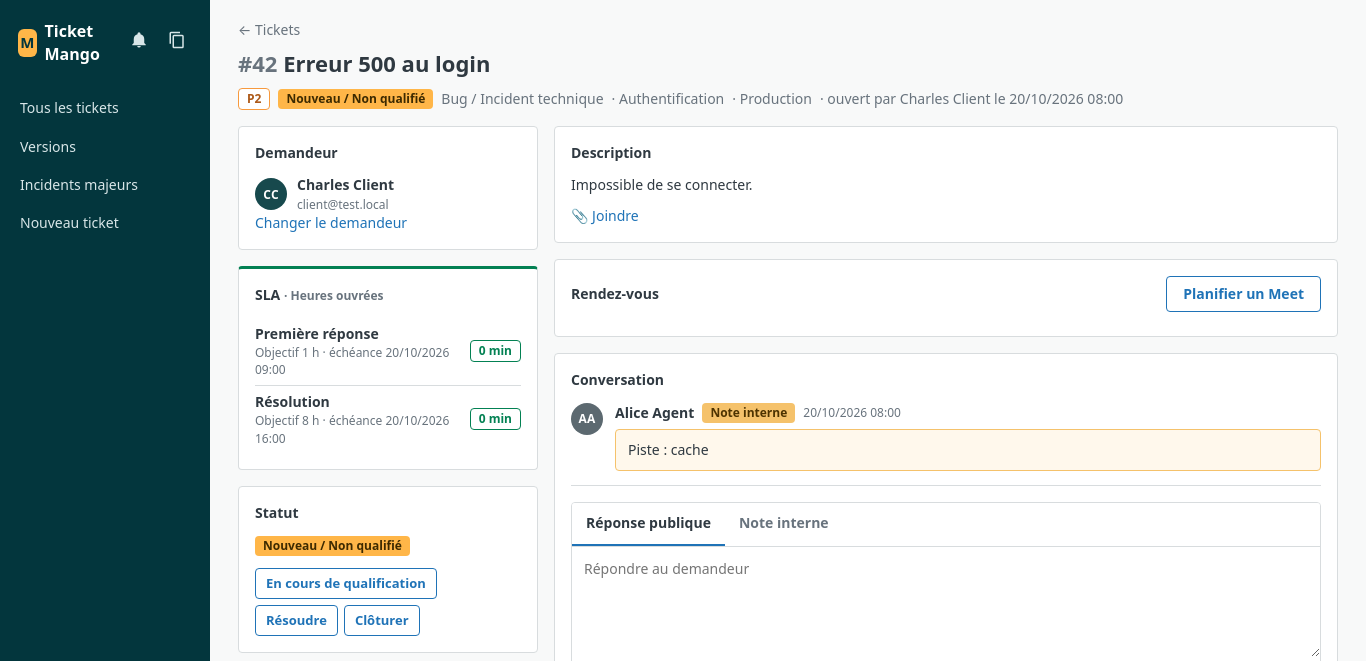
Test: détail d’un ticket › permet au support de changer le demandeur, y compris vers un nouveau contact
This screenshot has width=1366, height=661.
Click the button "Changer le demandeur" at (331, 223), box [255,213,407,234]
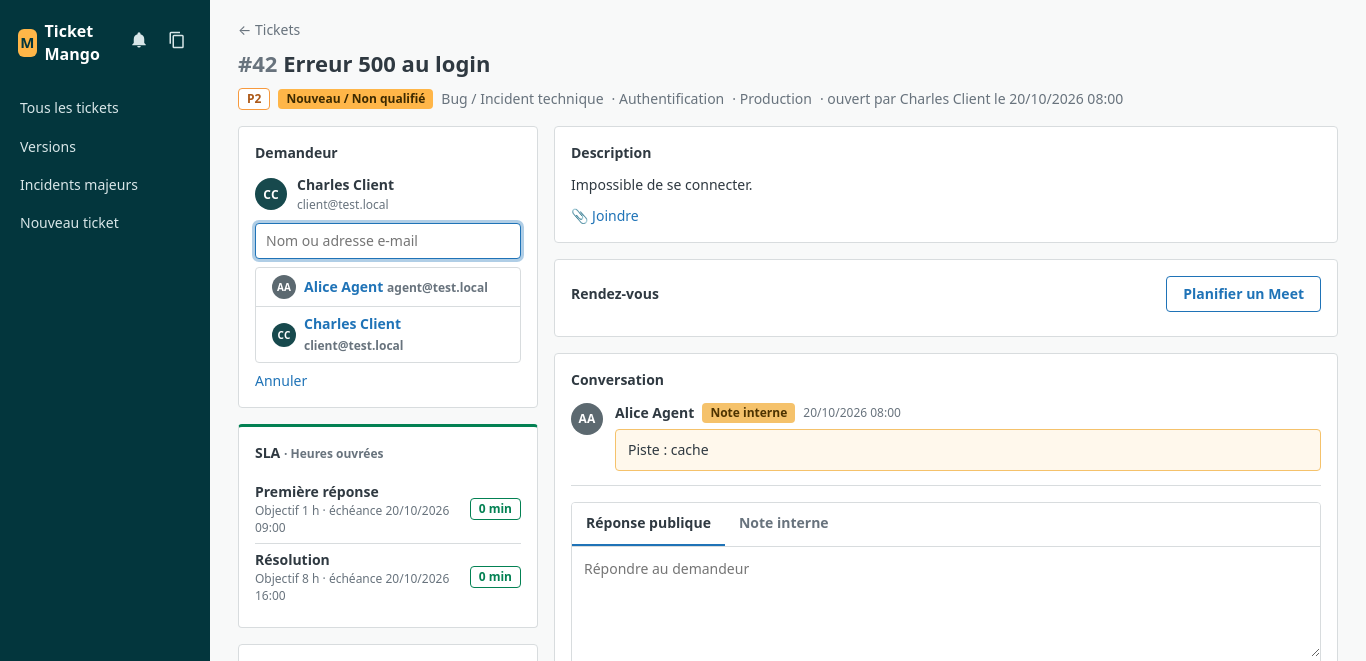
Type "paul@client.local" into the field named "Rechercher un demandeur" at (388, 241), box [255,223,521,260]
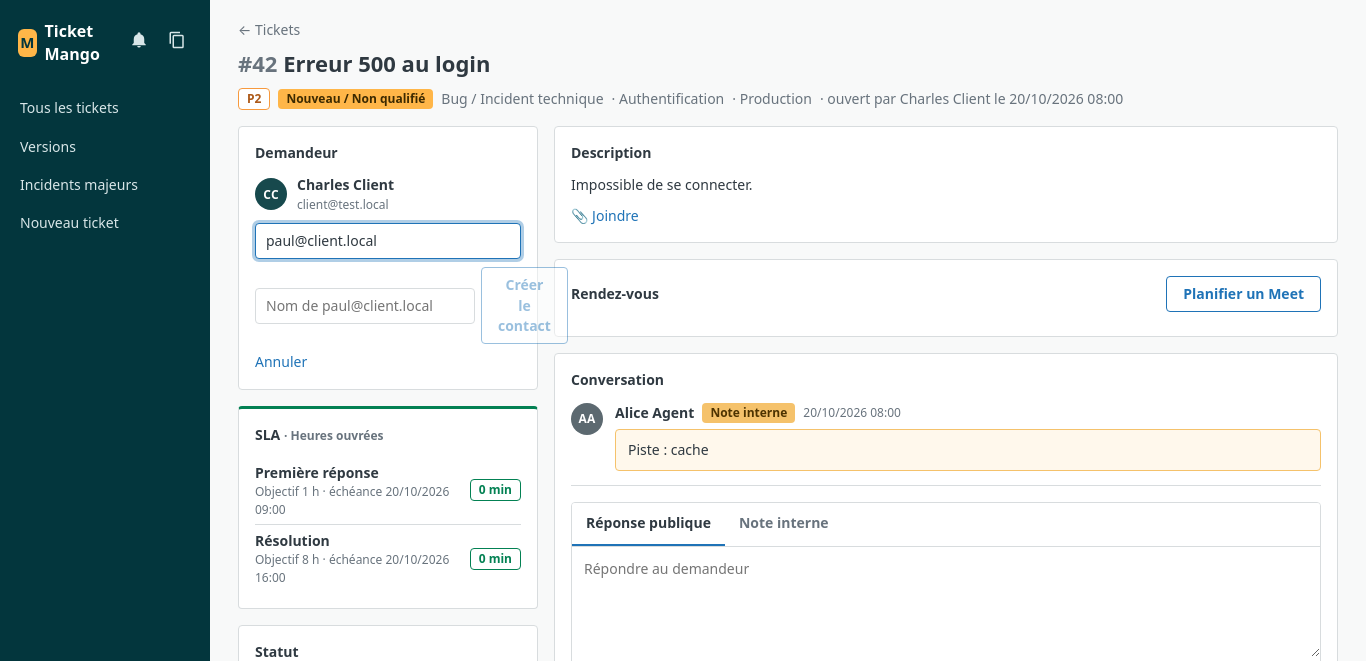
Type "Paul Martin" into the field named "Nom du nouveau contact" at (365, 306), box [255,288,475,324]
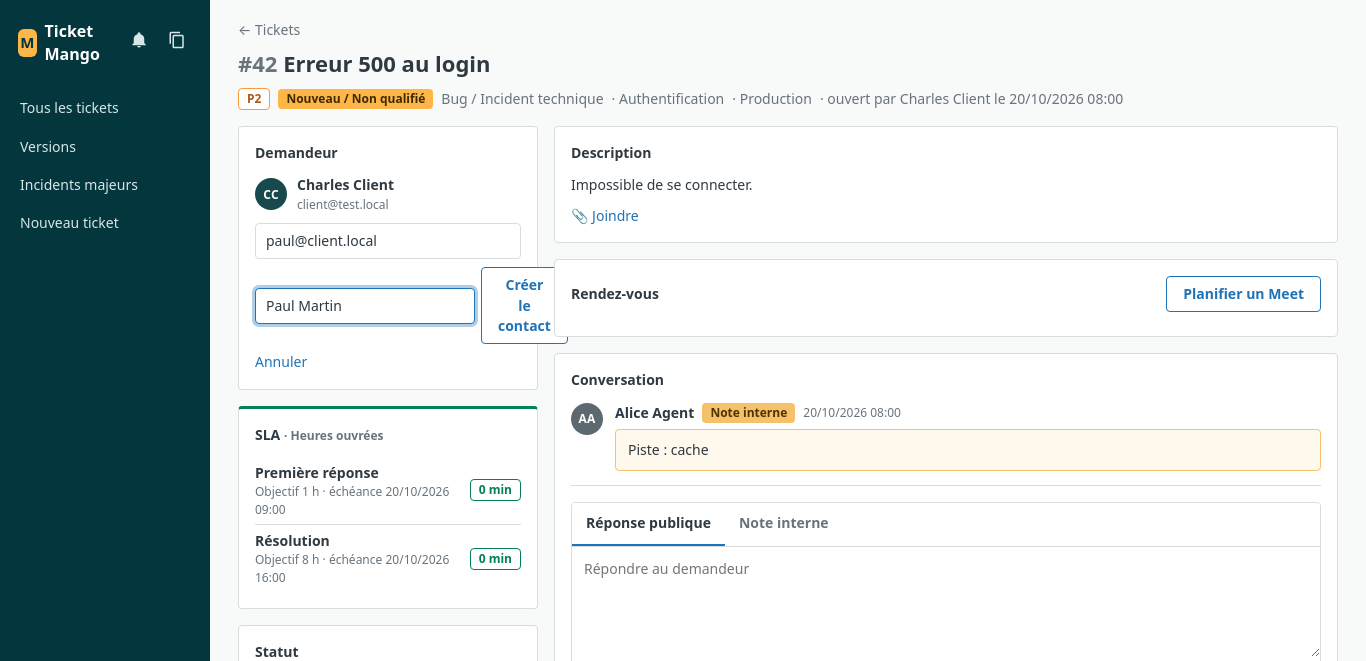
Click the button "Créer le contact" at (524, 306), box [481,268,568,344]
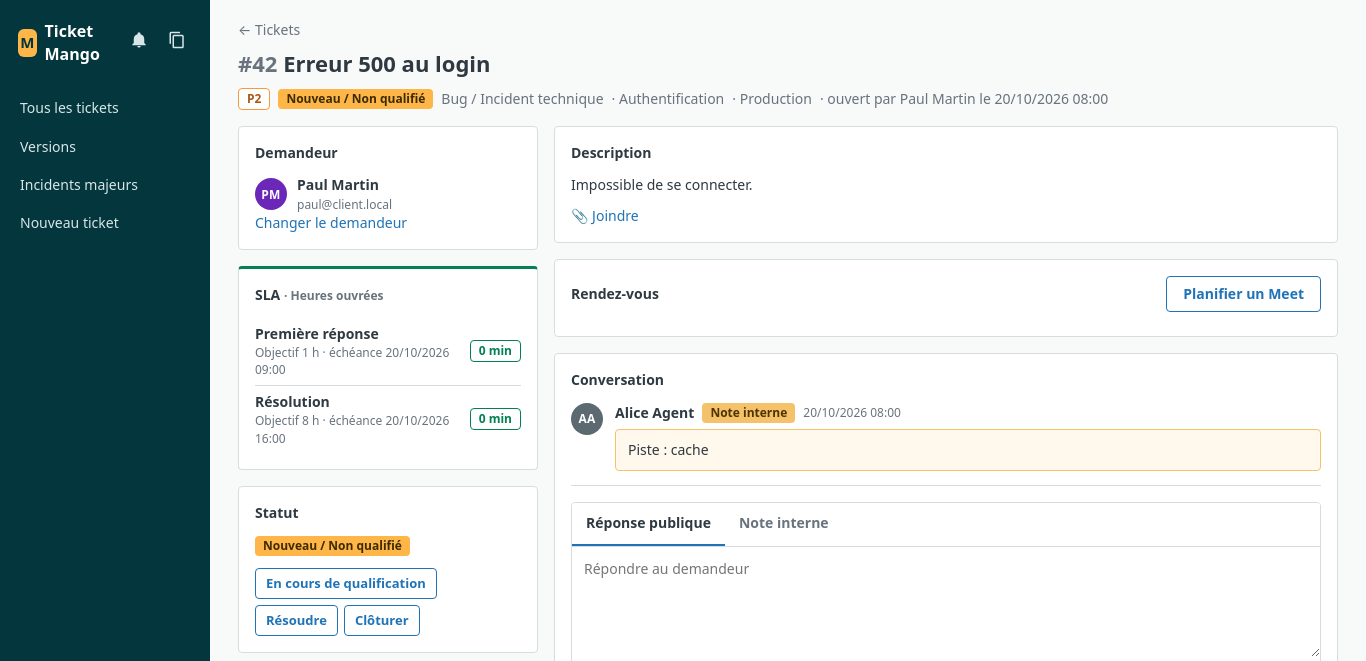
Now the text "Paul Martin" is shown, box [297,176,379,194]
